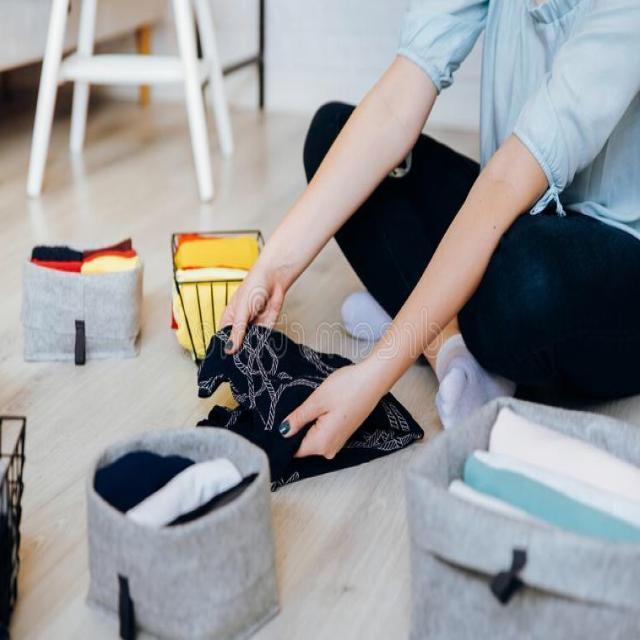clothes: (222, 326, 390, 464)
